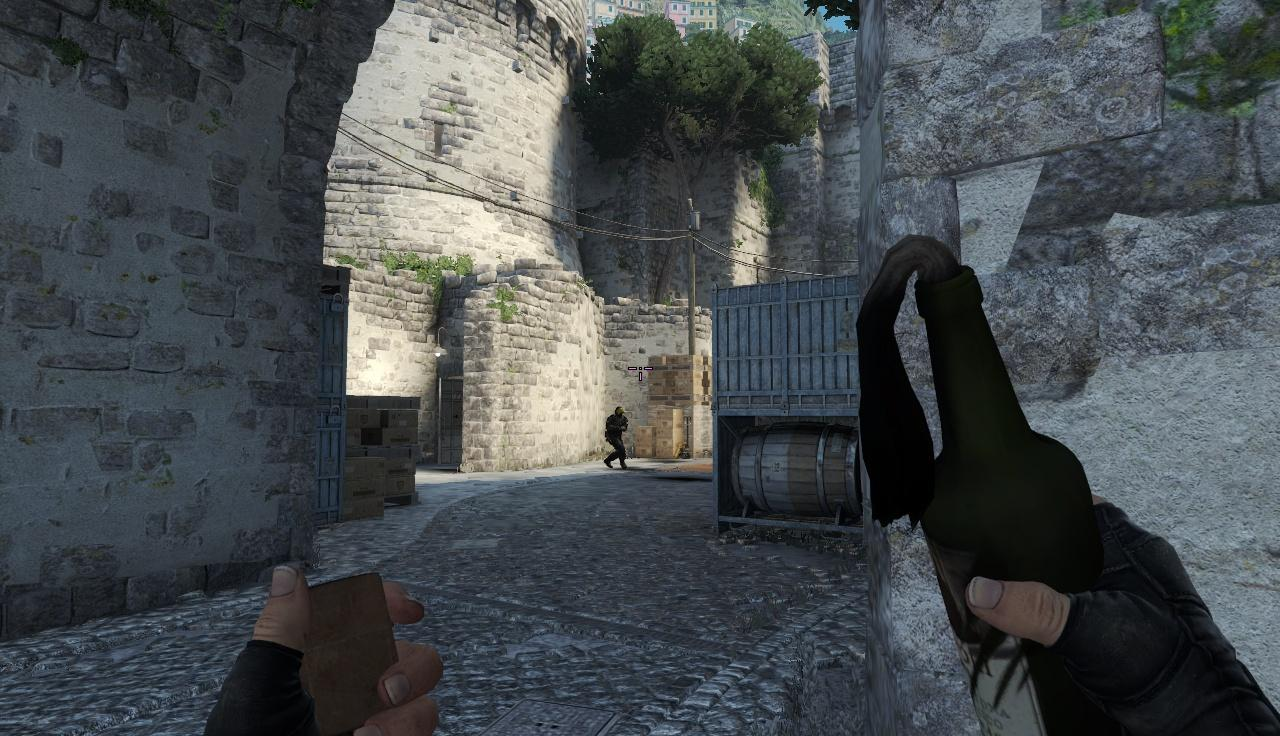ct: (608, 407, 629, 469)
cthead: (617, 407, 627, 418)
